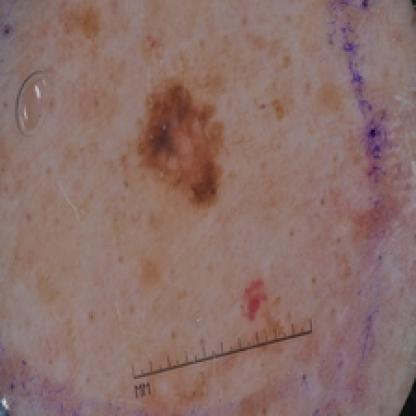malignant: (141, 74, 243, 214)
